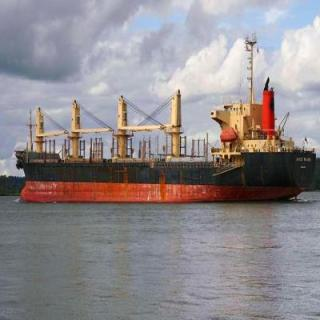Bulk Carrier: (11, 54, 320, 208)
